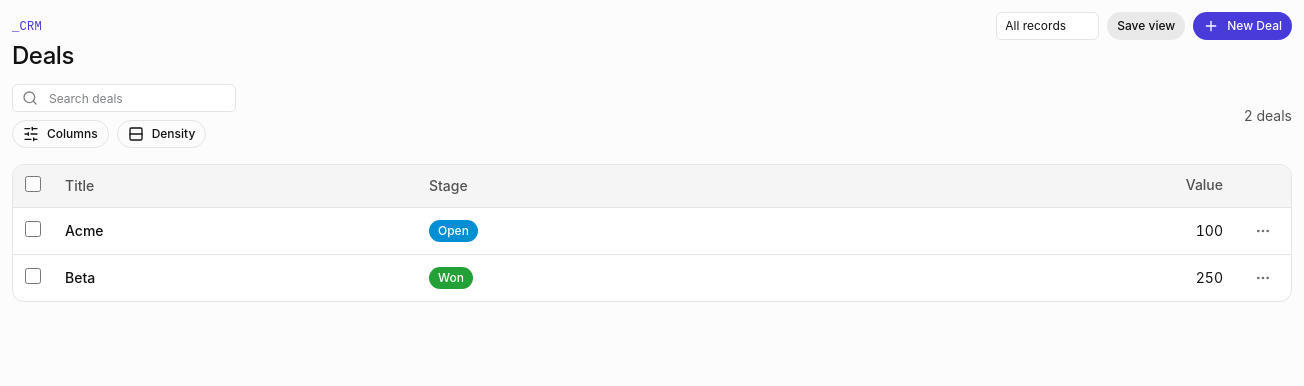
Scenario: RecordListPage › renders the bulk-action toolbar after a row checkbox is ticked
The width and height of the screenshot is (1304, 386).
Expected: the text "Acme" is shown, [65,222,104,239]
Click the checkbox named "Select row r1" at point(33, 228), box [25,220,41,236]
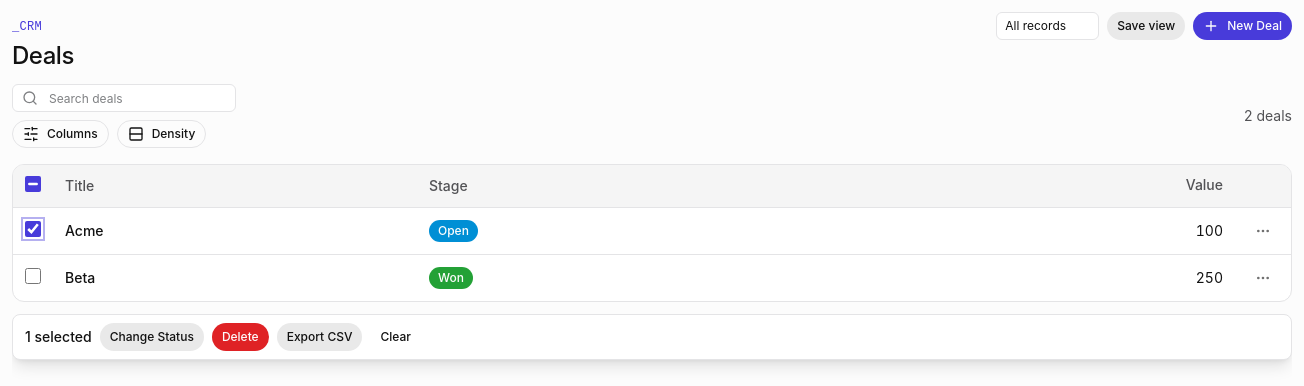
Now the text "1 selected" is shown, box [25,327,92,347]
Now the button "Change Status" is shown, box [100,323,204,351]
Now the button "Delete" is shown, box [212,323,269,351]
